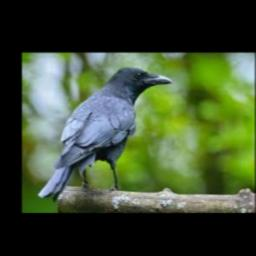Crow: (38, 67, 173, 202)
